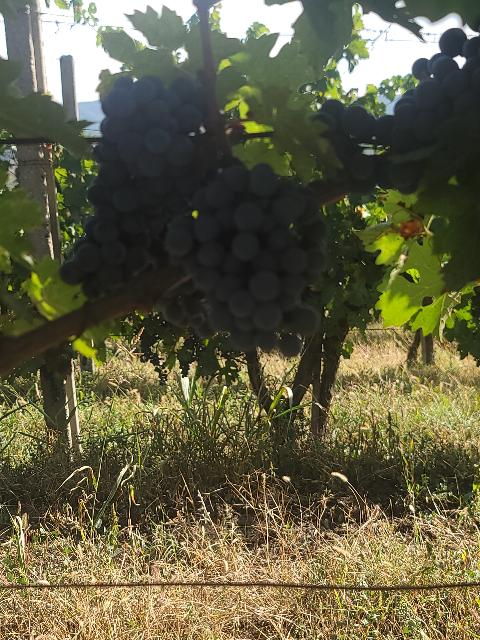grapes: (61, 76, 205, 298), (161, 164, 325, 351), (312, 29, 480, 194)
